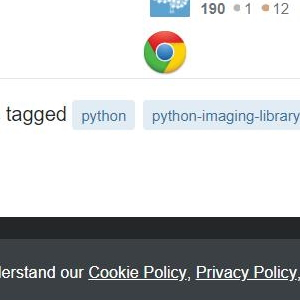chrome: (143, 30, 187, 74)
